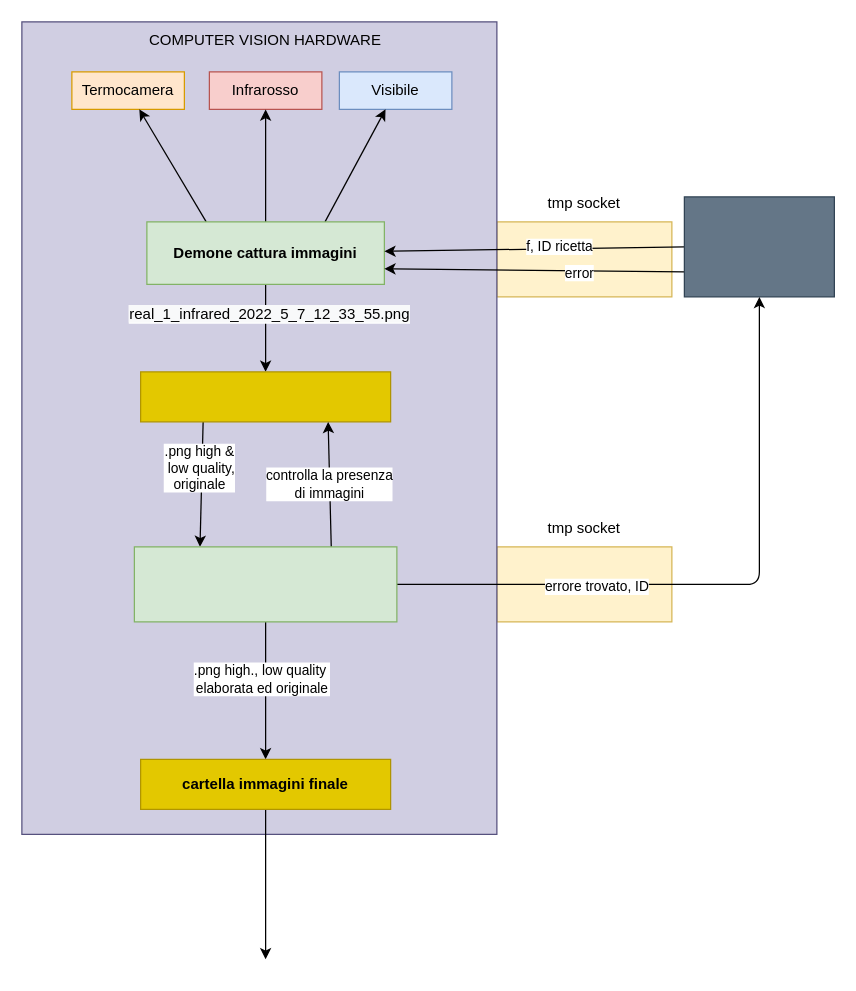
Image size: 856x991. Some labels were removed from this diagram. Here are the shapes that lost their labels. From the top down, the centre of each, then its label:
At (x=758, y=246): "PLC".
At (x=265, y=396): "cartella temporanea immagini".
At (x=265, y=584): "Demone Computer Vision fsnotify".
